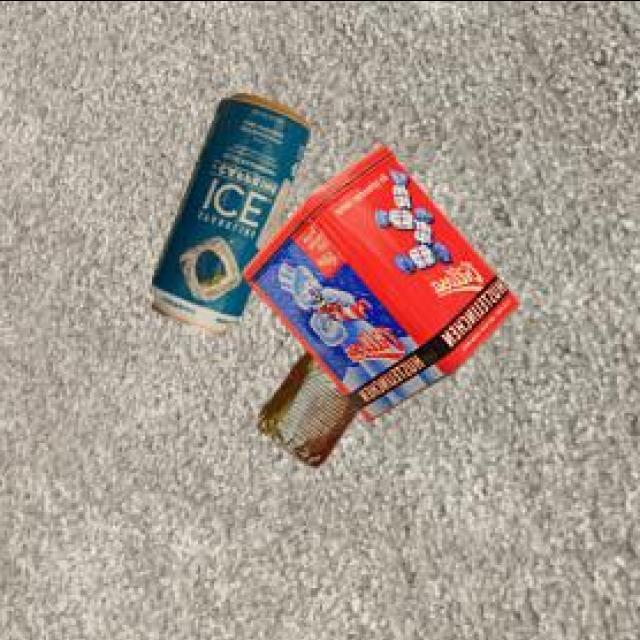logam: (241, 142, 517, 416), (148, 91, 305, 330), (254, 346, 356, 462)
